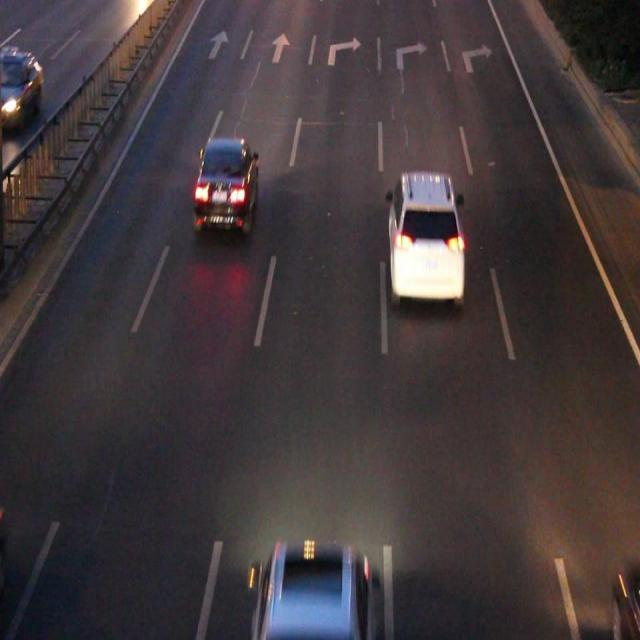car: (388, 173, 462, 298), (196, 142, 256, 226)
